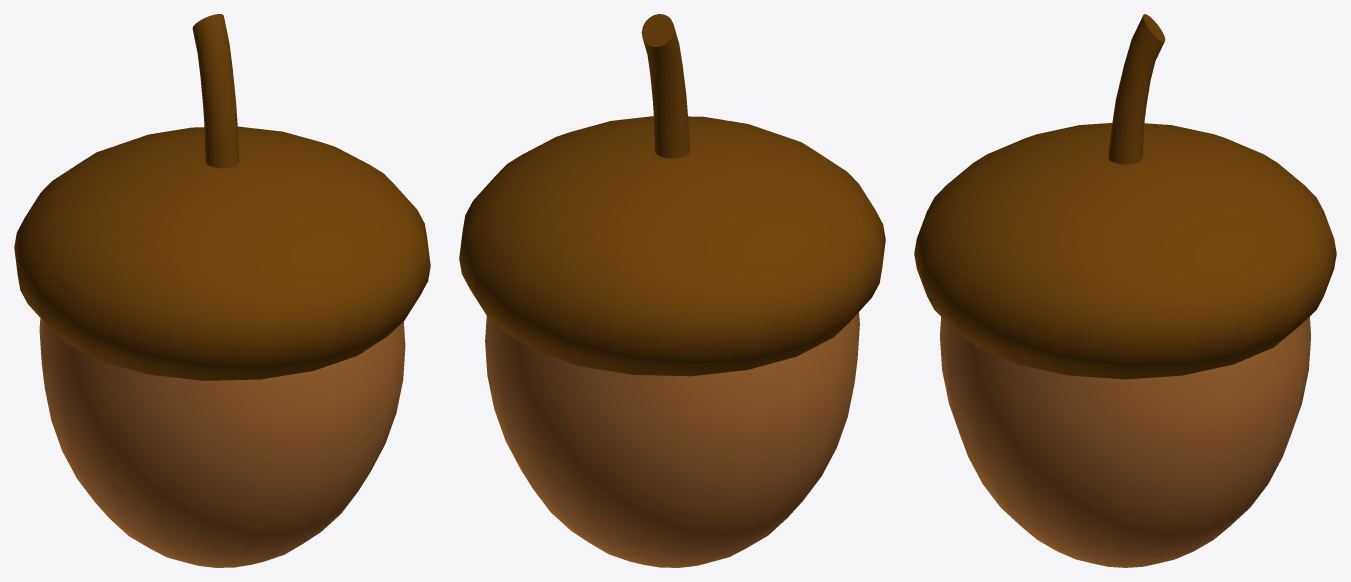
File: donguri.fbx
3 views of the same model, side by side, from view 1: azimuth 30°, elevation 25°; view 2: azimuth 150°, elevation 25°; view 3: azimuth 270°, elevation 25° (orthographic). The views are drawn at different scales.
Visible parts, largest first — view 1: pCylinder2; view 2: pCylinder2; view 3: pCylinder2.
Boxes of the visible parts, left/top/right/bottom form: pCylinder2: left=14, top=14, right=430, bottom=567; pCylinder2: left=459, top=14, right=885, bottom=567; pCylinder2: left=914, top=14, right=1336, bottom=567.
Bounding box in the file's own units: 2.28 × 3.2 × 2.28.
